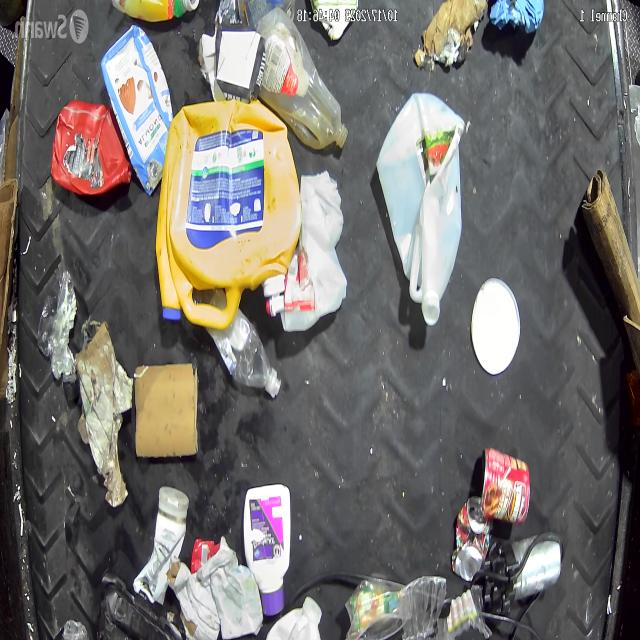can: (479, 444, 531, 526), (451, 494, 491, 583)
milk_jug: (376, 93, 464, 326)
non_white_jug: (155, 103, 301, 331), (100, 24, 175, 198), (50, 101, 128, 197)
plastic_bottle: (256, 7, 348, 150), (205, 307, 282, 398)
